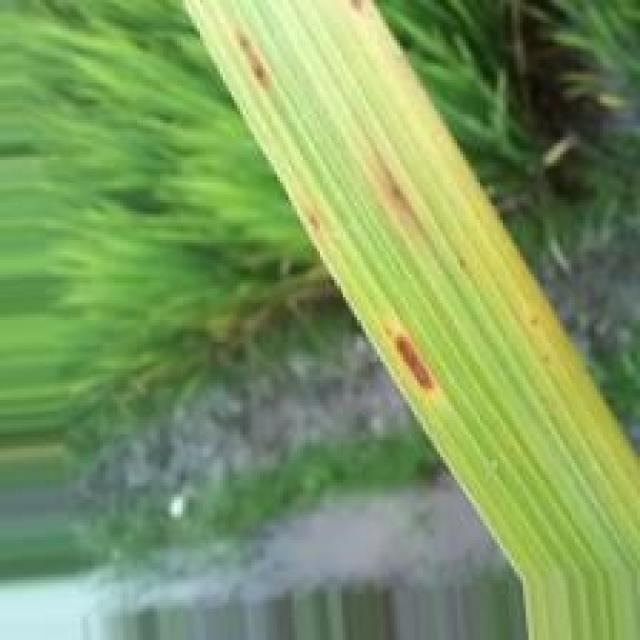Brown_Spot: (386, 324, 445, 402), (234, 24, 274, 93)
